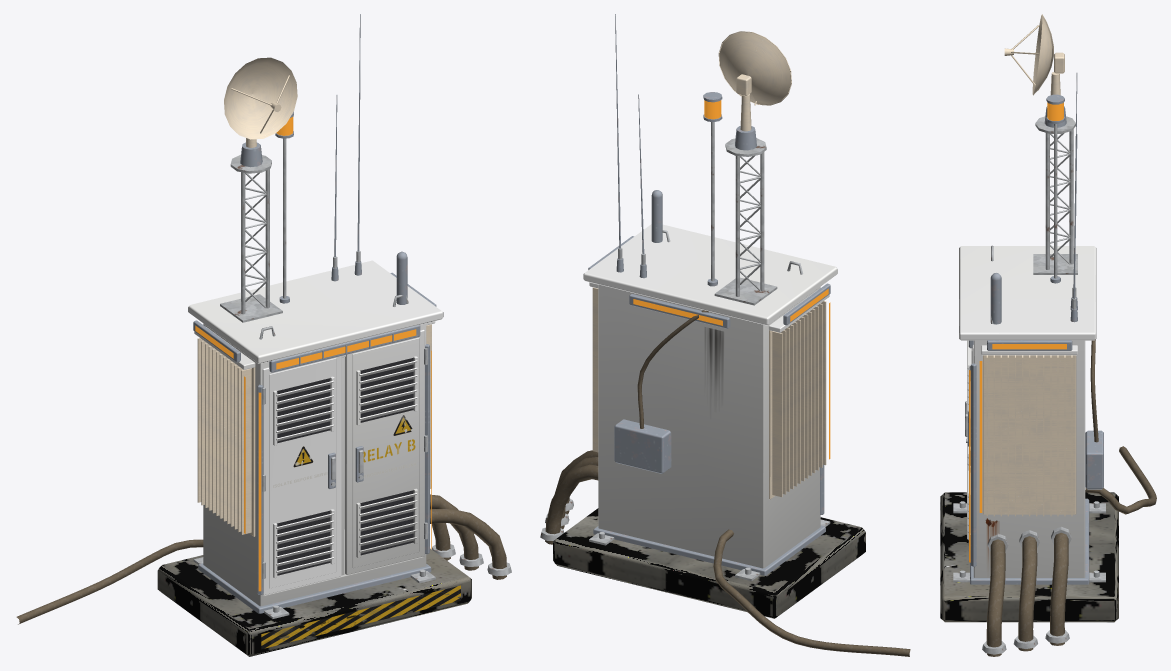
File: relay_node.glb
3 renders of one model, left to right at view 1: azimuth 30°, elevation 25°; view 2: azimuth 150°, elevation 25°; view 3: azimuth 270°, elevation 25°, orthographic. The views are drawn at different scales.
Parts seen in each view (by area): view 1: relay_node, relay_dynamic; view 2: relay_node, relay_dynamic; view 3: relay_node, relay_dynamic.
Part boxes in pixels (x1,y1,x2,y2): relay_node: (16, 14, 511, 656); relay_dynamic: (195, 57, 431, 595); relay_node: (540, 14, 910, 656); relay_dynamic: (633, 31, 830, 459); relay_node: (940, 73, 1156, 656); relay_dynamic: (965, 14, 1066, 562).
Bounding box in the file's own units: 2.57 × 3.18 × 1.17.
Materials: 16 (15 with a texture image).
